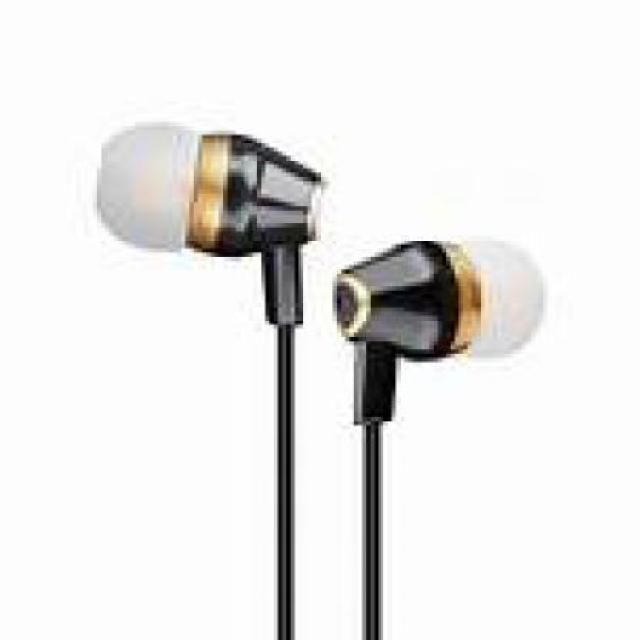earphone: (63, 80, 605, 640)
